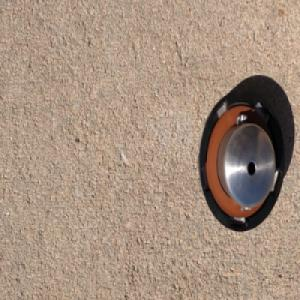FuelCap: (197, 88, 285, 234)
